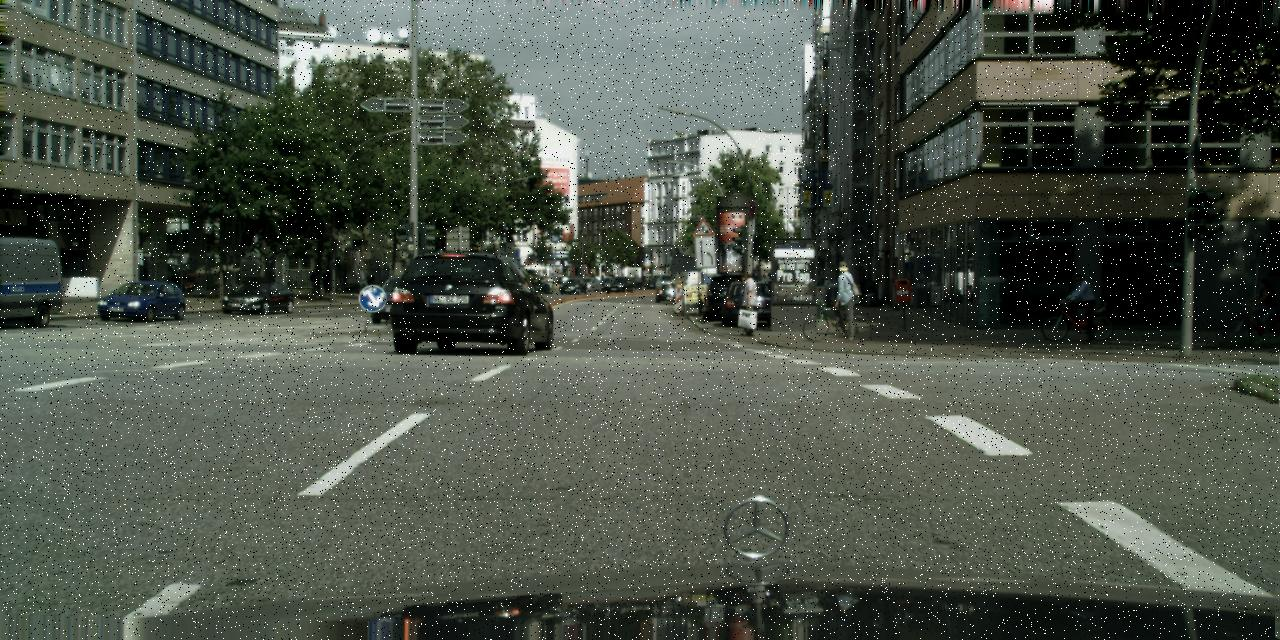ped: (828, 260, 858, 332), (734, 269, 761, 335), (1068, 274, 1091, 331), (1250, 278, 1272, 332), (320, 265, 332, 296), (308, 270, 318, 296), (366, 270, 374, 294)
